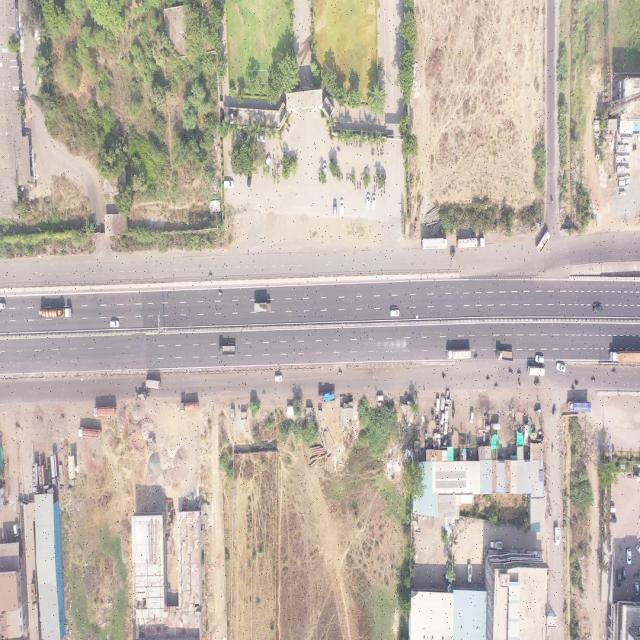3W: (491, 422, 500, 431), (535, 409, 542, 415), (553, 407, 557, 417), (534, 381, 540, 387)
Bus: (528, 366, 545, 376)
Cars: (556, 362, 566, 373), (626, 549, 632, 565), (440, 396, 446, 411), (634, 582, 640, 596), (535, 355, 544, 364), (390, 309, 400, 317), (333, 199, 337, 217), (110, 320, 119, 328), (224, 181, 234, 188), (593, 305, 603, 312), (371, 195, 376, 208), (469, 410, 474, 423), (622, 567, 626, 583), (366, 194, 370, 209), (376, 394, 384, 401), (14, 524, 18, 537), (436, 398, 440, 411), (441, 412, 445, 425), (340, 199, 343, 216), (275, 375, 282, 382), (610, 506, 617, 513), (610, 515, 617, 522), (247, 176, 251, 187), (0, 302, 5, 309), (450, 252, 456, 256)
LCV: (44, 468, 51, 492), (146, 379, 162, 389), (554, 526, 561, 545), (490, 541, 503, 550), (468, 564, 472, 584)
M2W: (633, 143, 637, 151), (551, 443, 555, 451), (591, 378, 597, 383), (612, 369, 617, 375), (571, 385, 576, 390), (574, 379, 579, 384), (494, 385, 499, 389), (380, 147, 382, 156), (551, 197, 554, 203), (518, 380, 521, 386), (359, 140, 361, 148), (219, 292, 223, 296), (509, 370, 513, 374), (517, 372, 521, 376), (486, 378, 490, 382), (371, 148, 373, 155), (382, 149, 384, 156), (374, 186, 376, 192), (209, 275, 213, 278), (475, 355, 478, 359), (442, 375, 446, 378), (373, 147, 374, 156), (339, 372, 342, 375), (378, 149, 379, 157), (384, 188, 385, 195), (360, 183, 361, 190), (356, 140, 357, 147), (381, 192, 382, 198), (376, 182, 377, 188), (374, 177, 375, 183), (361, 175, 362, 181), (357, 184, 358, 190), (355, 185, 356, 191), (348, 175, 349, 181), (347, 175, 348, 181), (342, 175, 343, 181), (350, 175, 351, 181), (351, 142, 352, 147), (379, 186, 380, 190)
MAV: (608, 350, 640, 363), (39, 306, 73, 318), (422, 238, 448, 250), (93, 406, 116, 418), (79, 427, 101, 439), (457, 239, 485, 248), (447, 350, 471, 360), (68, 454, 75, 487), (51, 453, 58, 485), (180, 402, 199, 412), (32, 463, 38, 494), (30, 583, 36, 611)
Truck: (567, 400, 592, 413), (497, 350, 513, 361), (254, 302, 271, 312), (319, 392, 335, 402), (218, 346, 235, 355)
